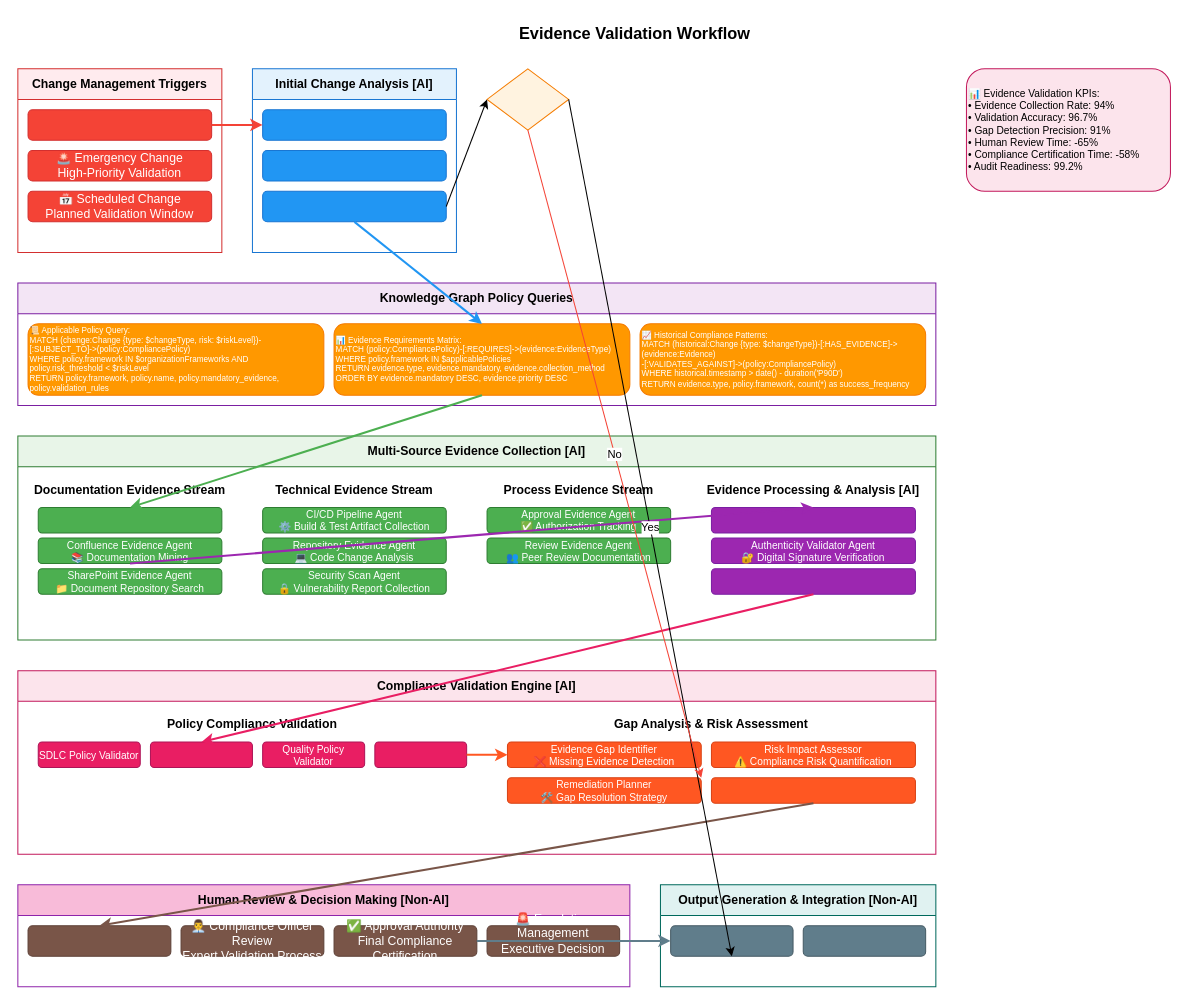
This 1188x1005 diagram has some shape labels left out. The centre of each missing label's shape, as x and y in pixels:
Change Classifier Agent 🏷️ Type & Risk Assessment: [354,124]
Compliant?: [527,99]
Document Parser Agent 📄 Content Extraction & NLP: [812,519]
Escalation Trigger 🚨 Critical Issue Identification: [812,790]
Impact Analyzer Agent 📊 System Scope Analysis: [354,165]
Jira Evidence Agent 🎯 Ticket Analysis & Extraction: [129,519]
Policy Mapper Agent 📜 Applicable Framework Identification: [354,206]
Quality Scorer Agent ⭐ Evidence Quality Assessment: [812,581]
Regulatory Validator: [420,754]
Security Policy Validator: [200,754]
📊 Compliance Dashboard Evidence Matrix Visualization: [99,940]
📊 Gap Analysis Report Remediation Action Plan: [864,940]
📋 Change Ticket Creation ServiceNow/Remedy Integration: [119,124]
📋 Compliance Certificate Formal Approval Documentation: [731,940]
